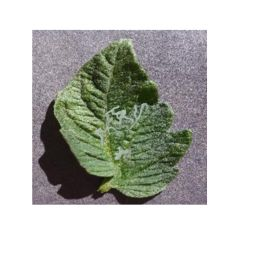liriomyza: (91, 101, 148, 146), (112, 146, 133, 161)
